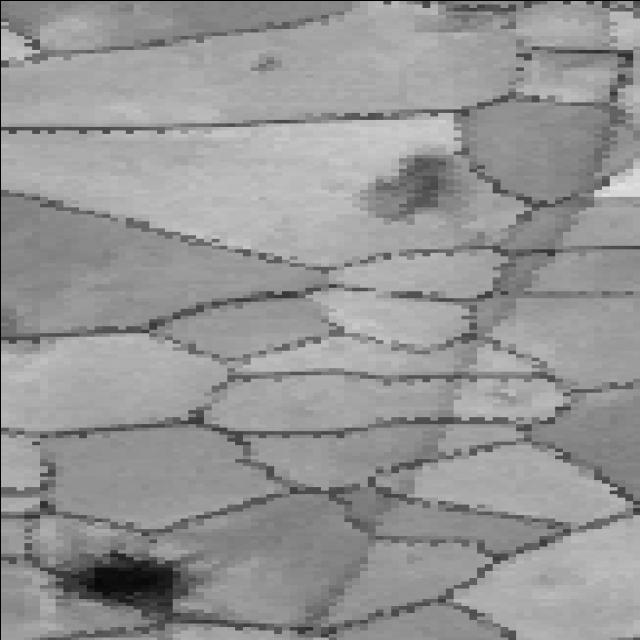good_void: (341, 142, 485, 230), (57, 547, 199, 634), (225, 43, 299, 79)
